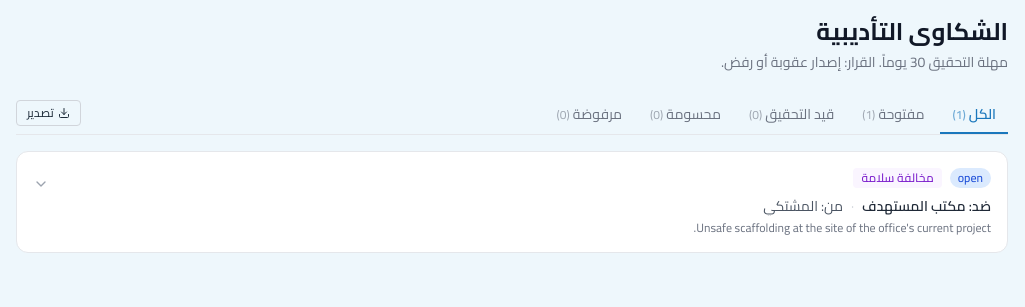
Scenario: ComplaintsAdmin (JORD-81 UI) › empty state renders when the filter yields no complaints
Expected: the element with test id "complaint-row-1" is shown, 16,151 -> 1008,253
Click the button with test id "filter-decided": (686, 115) 638,96 -> 733,134
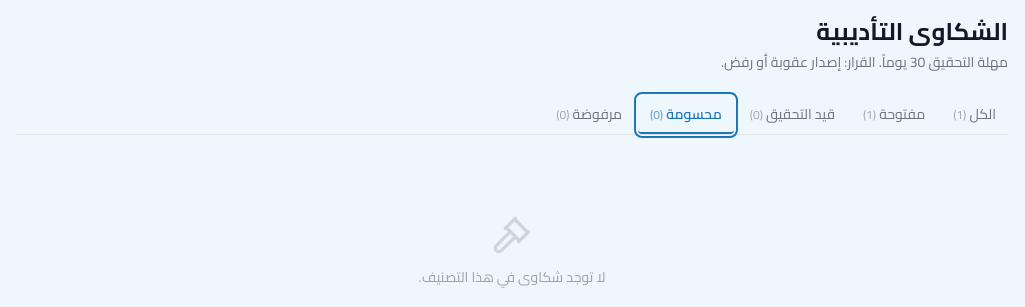
Expected: the text "لا توجد شكاوى في هذا التصنيف." is shown, 419,264 -> 605,290
